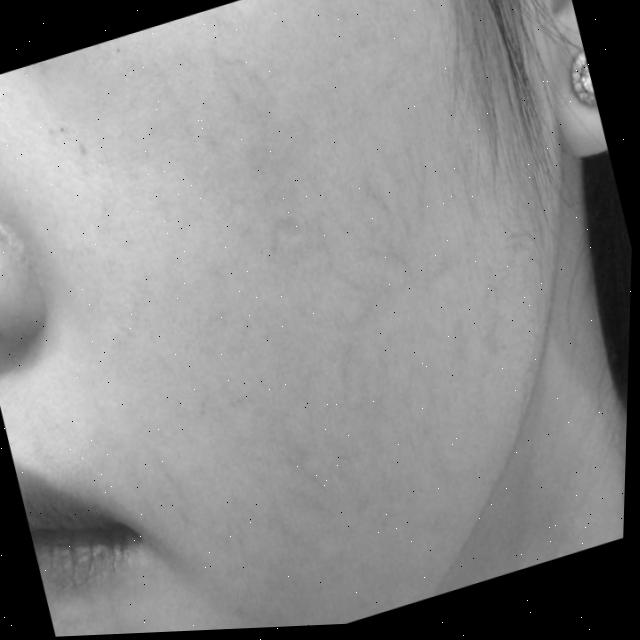Rosacea: (199, 54, 318, 201)
